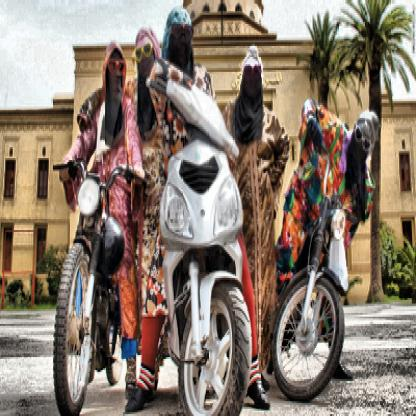not_wear: (166, 10, 194, 75), (240, 48, 265, 106), (101, 36, 126, 89), (132, 30, 155, 80), (352, 111, 374, 159)
